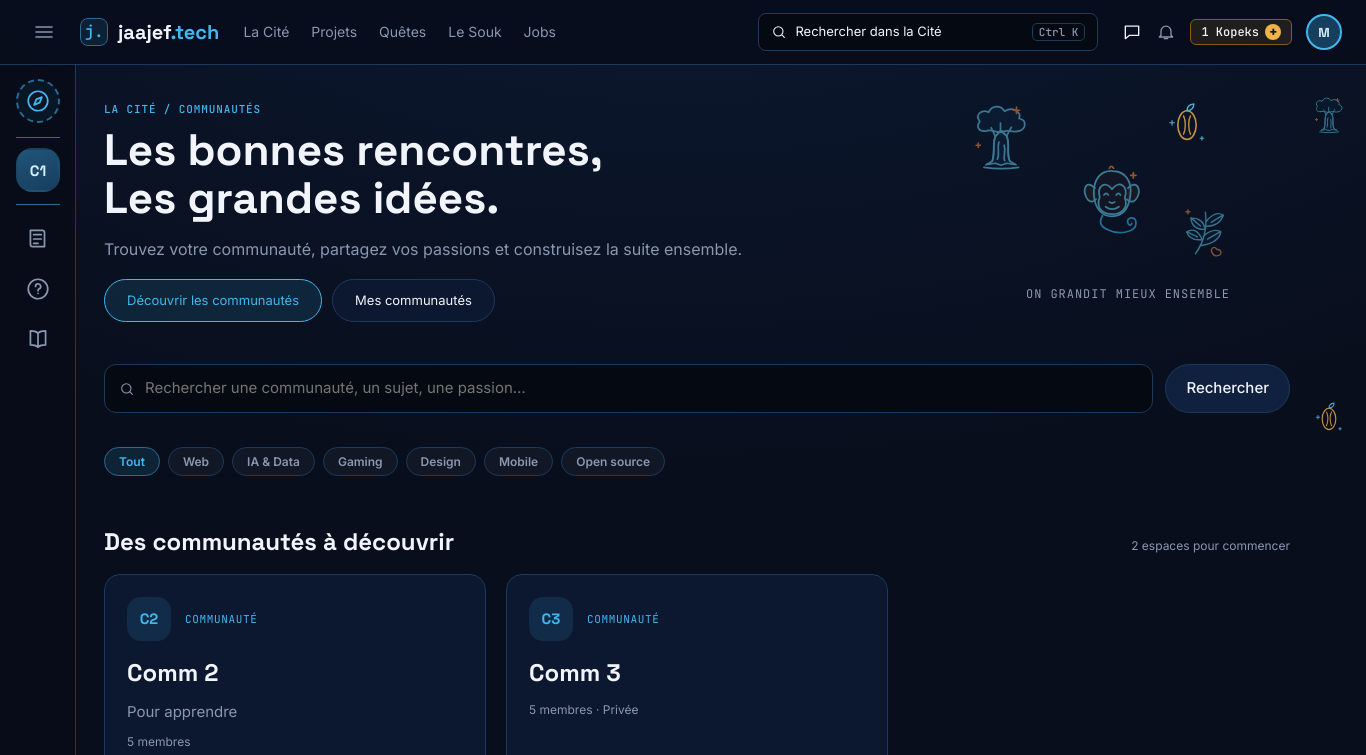
Test case: Communities list › shows only the others under "discover", and mine with my role and link under "my communities"
Expected: the heading "Comm 2" is shown, x1=127 y1=657 x2=218 y2=688
Expected: the text "Comm 1" is not shown
Click the tab "Mes communautés": {"x": 414, "y": 301} x1=332 y1=279 x2=495 y2=322
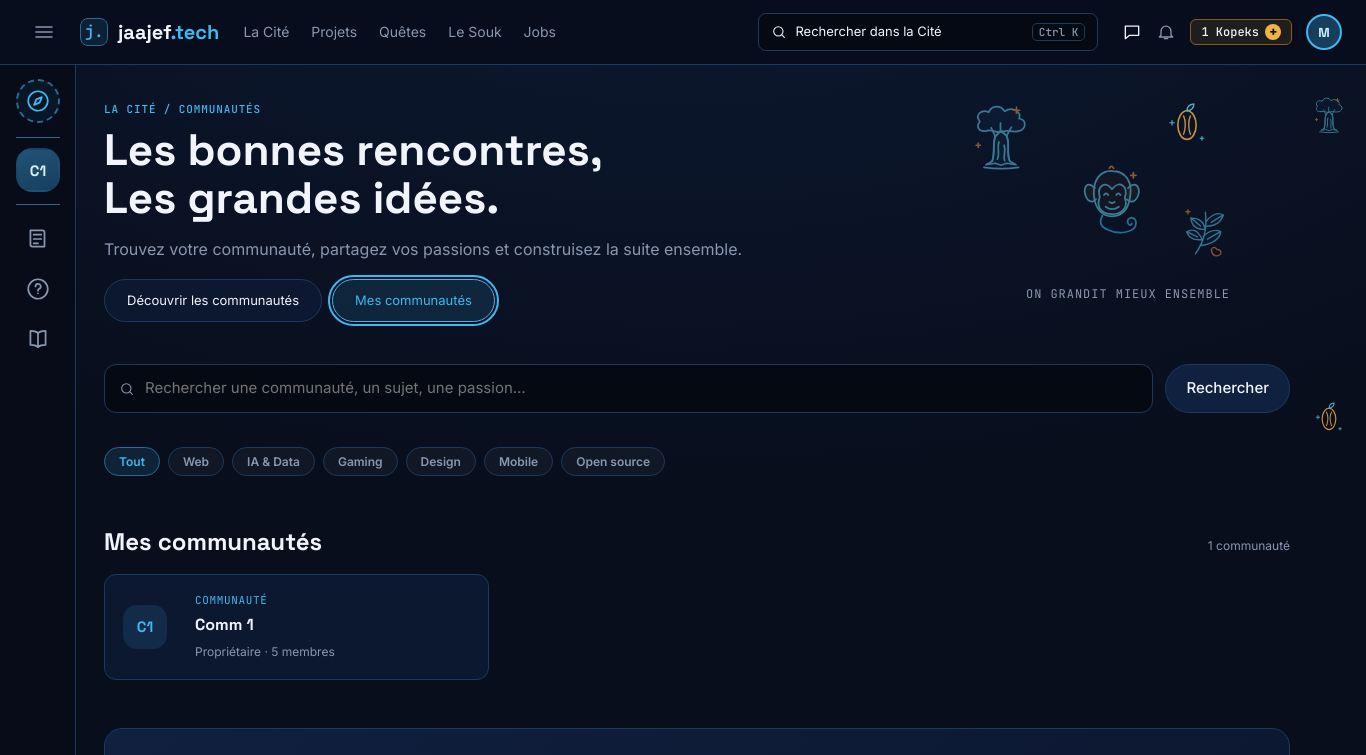
Result: the text "Propriétaire · 5 membres" is shown at x1=195 y1=644 x2=335 y2=659
Result: the heading "Comm 2" is gone
